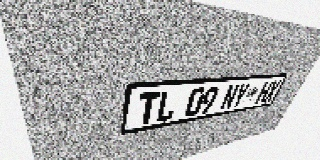0: (184, 87, 207, 117)
9: (198, 86, 220, 115)
H: (254, 81, 274, 104)
L: (155, 89, 179, 123)
N: (219, 84, 240, 111)
T: (136, 91, 160, 126)
X: (263, 80, 281, 103)
Y: (230, 83, 251, 109)
